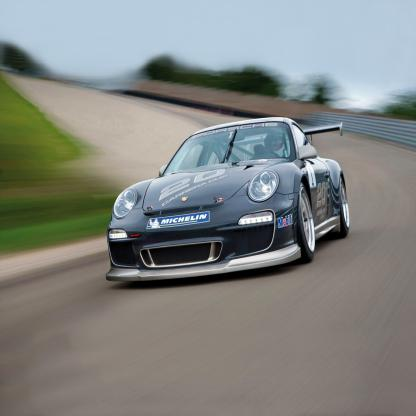Car: (105, 117, 350, 280)
